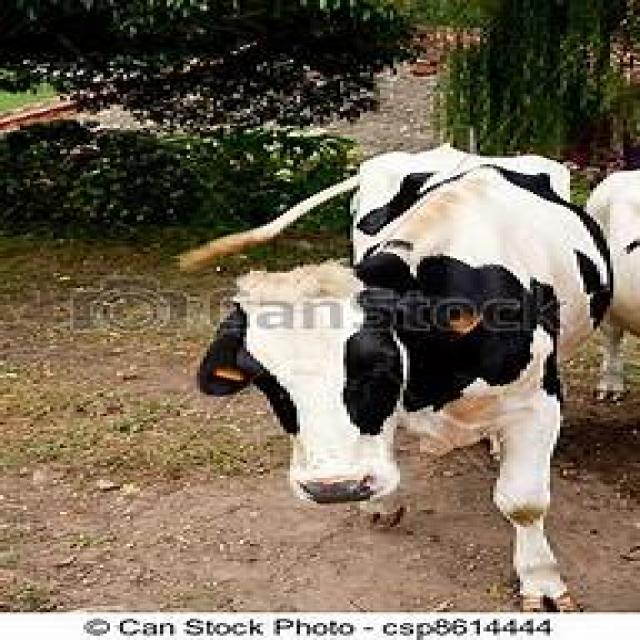cow: (217, 145, 640, 614), (197, 309, 297, 442)
